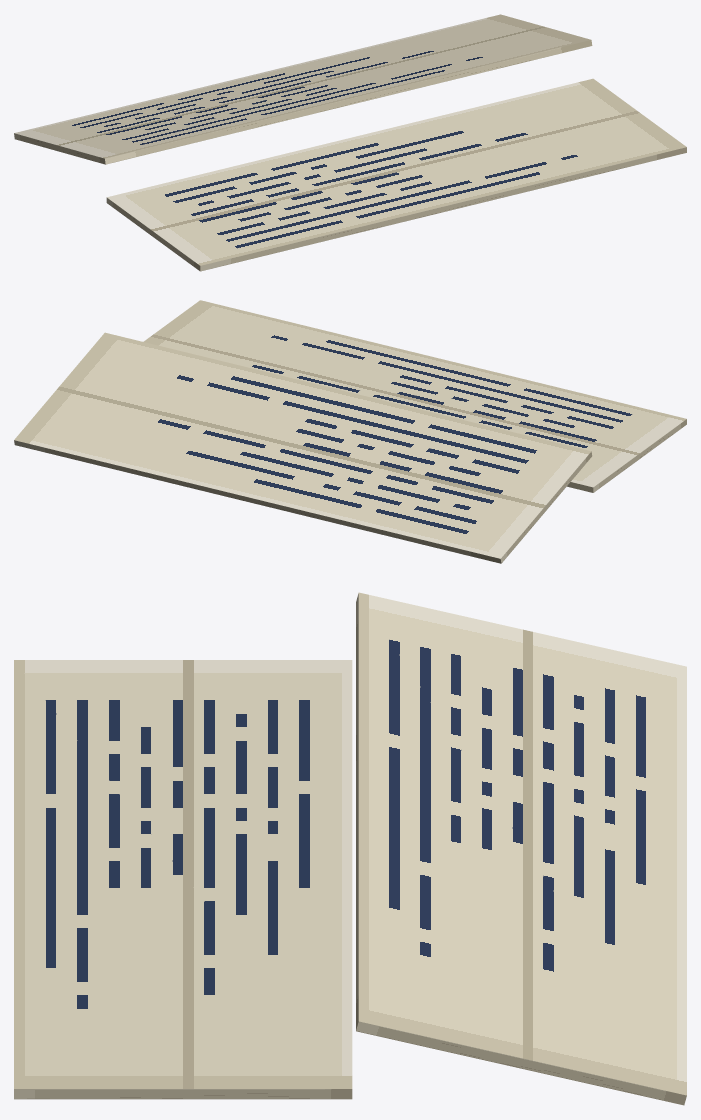
File: INV_FoldedNote.glb
3 views of the same model, one above another, from view 1: azimuth 30°, elevation 25°; view 2: azimuth 150°, elevation 25°; view 3: azimuth 270°, elevation 25° (orthographic). The views are drawn at different scales.
Visible parts, largest first — view 1: INV_FoldedNote_Mesh; view 2: INV_FoldedNote_Mesh; view 3: INV_FoldedNote_Mesh.
Part boxes in pixels (<box>): INV_FoldedNote_Mesh: <box>14,14,686,271</box>; INV_FoldedNote_Mesh: <box>14,300,686,563</box>; INV_FoldedNote_Mesh: <box>14,592,686,1105</box>.
Size of what is drawn, in the model's own units: 0.09 by 0.00823 by 0.0597.
Materials: 1 (1 with a texture image).
